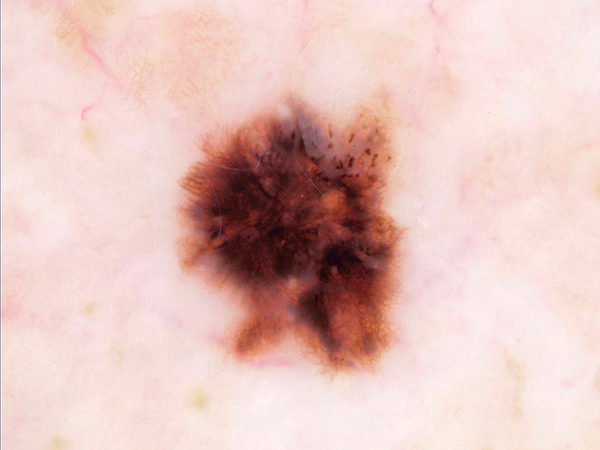Detected Lesion: (161, 85, 418, 388)
